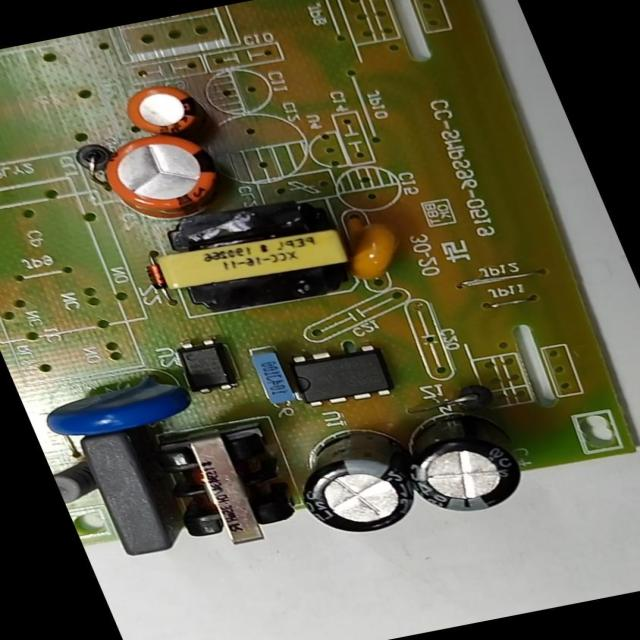Cap1: (83, 124, 240, 229)
Cap2: (110, 77, 213, 144)
Cap3: (273, 419, 442, 548)
Cap4: (381, 397, 546, 524)
MOSFET: (274, 336, 402, 415)
Mov: (30, 365, 208, 451)
Resistor: (48, 452, 111, 512)
Transformer: (136, 188, 372, 328), (138, 416, 316, 559)
